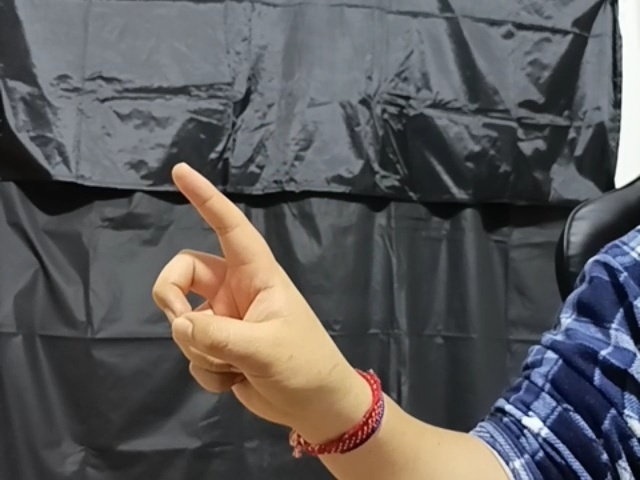D: (152, 156, 357, 432)
